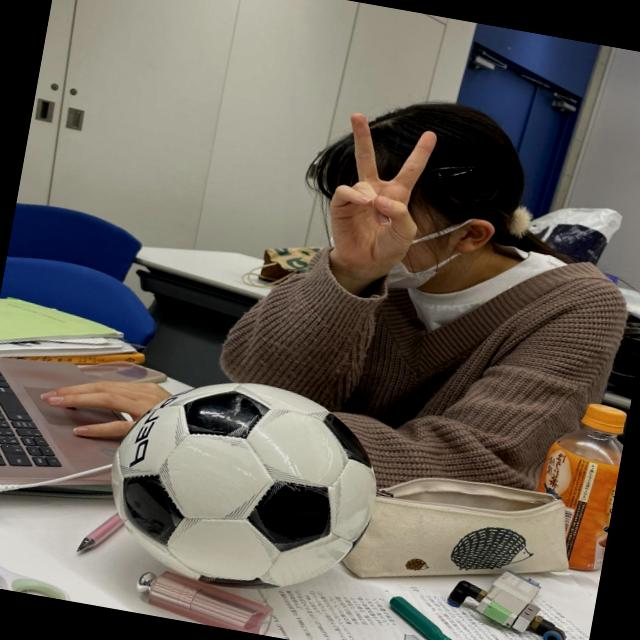Soccer Ball: (96, 362, 388, 606)
